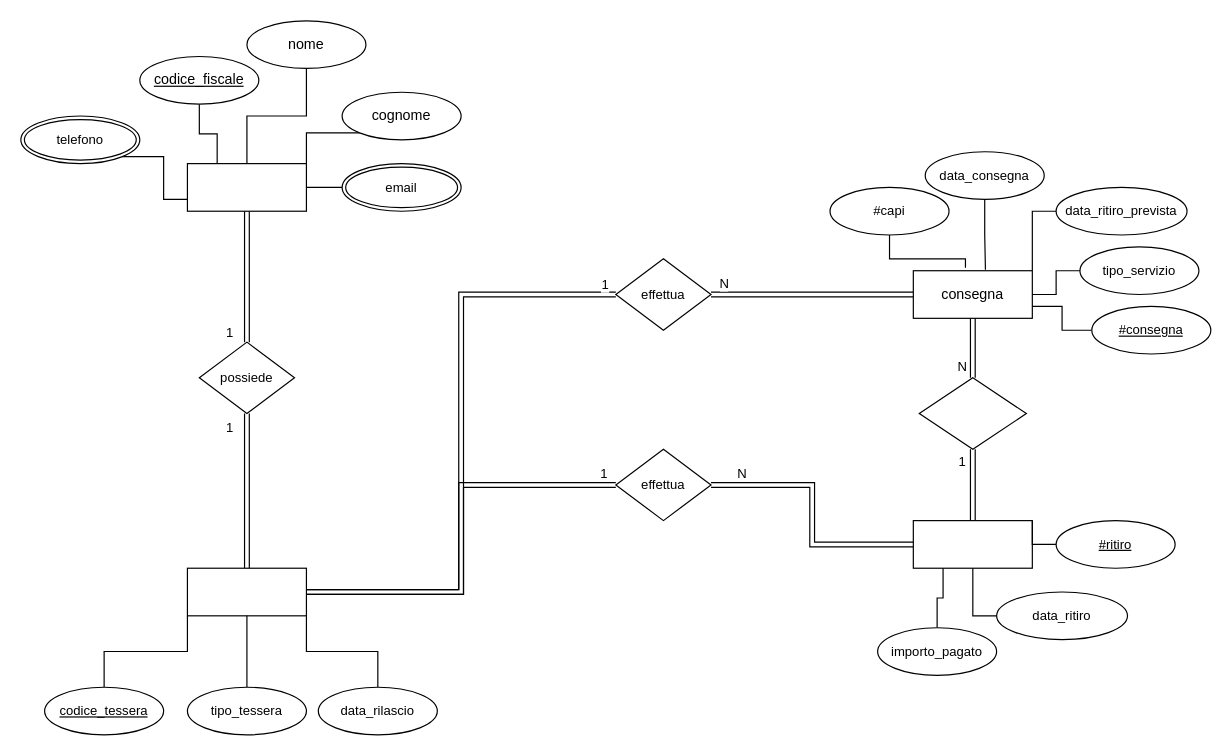
The diagram is 1232 pixels wide and 756 high, and some of its shapes have lost their labels. The box of each missing label's shape, as (x1, y1, x2, y2) in pixels:
cliente: (186, 162, 306, 211)
equivale: (918, 377, 1026, 449)
ritiro: (912, 519, 1032, 568)
tessera: (186, 567, 306, 616)
